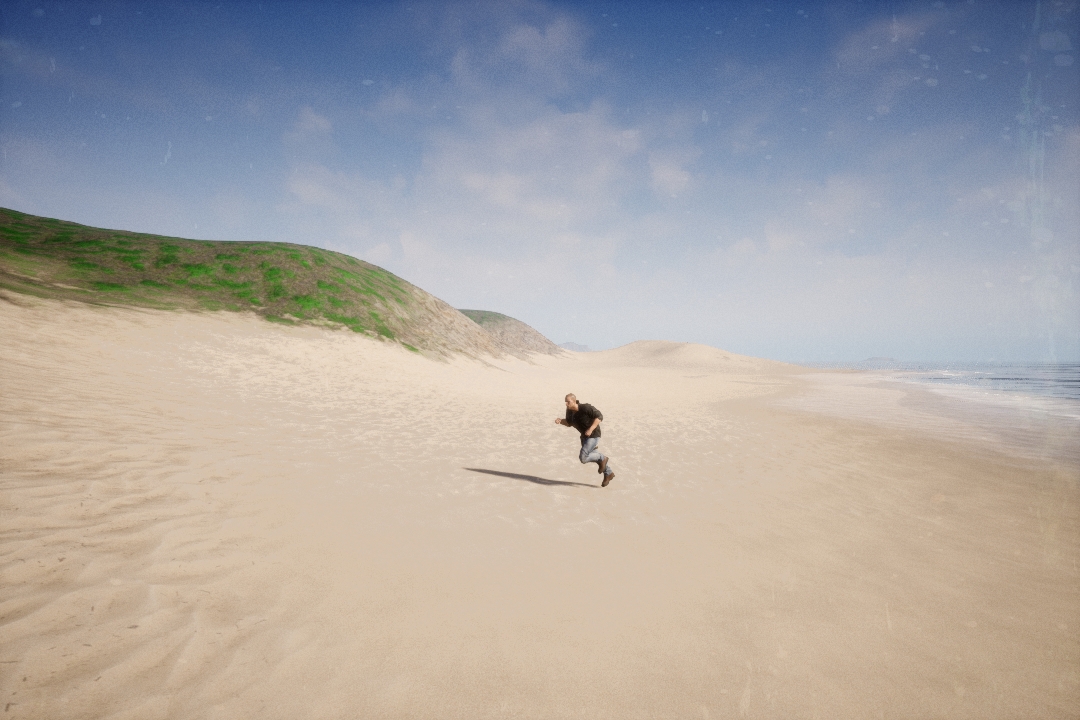person: (553, 382, 622, 493)
